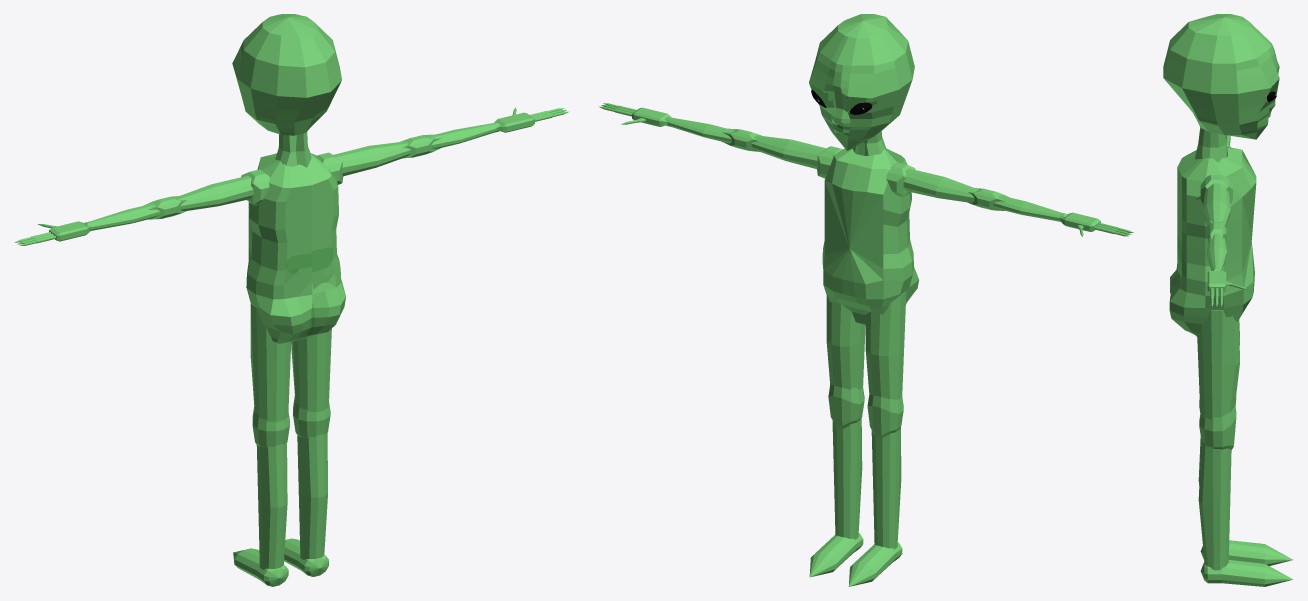
Rendered from alien.gltf.
3 renders of one model, left to right at view 1: azimuth 30°, elevation 25°; view 2: azimuth 150°, elevation 25°; view 3: azimuth 270°, elevation 25°, orthographic. The views are drawn at different scales.
Parts seen in each view (by area): view 1: cylinder (×8), Torso, Head, sphere (×2), cone (×2), Neck; view 2: cylinder (×8), Torso, Head, cone (×2), sphere (×2); view 3: Head, Torso, cylinder (×4), cone (×2), sphere, Neck, cube (×2), beveled_cuboid.
Boxes of the visible parts, x1,y1,x2,y2 form: cylinder (×8): [89, 123, 496, 569]; Torso: [246, 153, 345, 343]; Head: [232, 14, 341, 135]; sphere (×2): [252, 395, 330, 447]; cone (×2): [233, 538, 328, 586]; Neck: [275, 131, 311, 167]; cylinder (×8): [668, 117, 1062, 549]; Torso: [822, 148, 918, 324]; Head: [809, 14, 914, 150]; cone (×2): [809, 532, 902, 586]; sphere (×2): [828, 384, 903, 438]; Head: [1163, 14, 1279, 139]; Torso: [1169, 147, 1256, 336]; cylinder (×4): [1197, 183, 1239, 570]; cone (×2): [1200, 540, 1292, 586]; sphere: [1199, 405, 1236, 449]; Neck: [1195, 127, 1227, 199]; cube (×2): [1200, 175, 1232, 241]; beveled_cuboid: [1207, 270, 1226, 291].
Size of the model in its own units: 8.5 by 8.27 by 1.75.
Materials: 5 (5 with a texture image).
